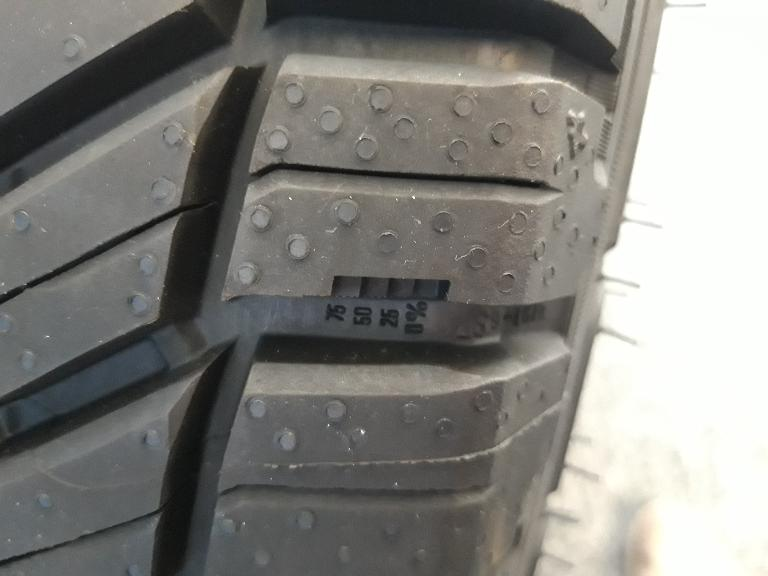temoin:100: (309, 273, 454, 304)
